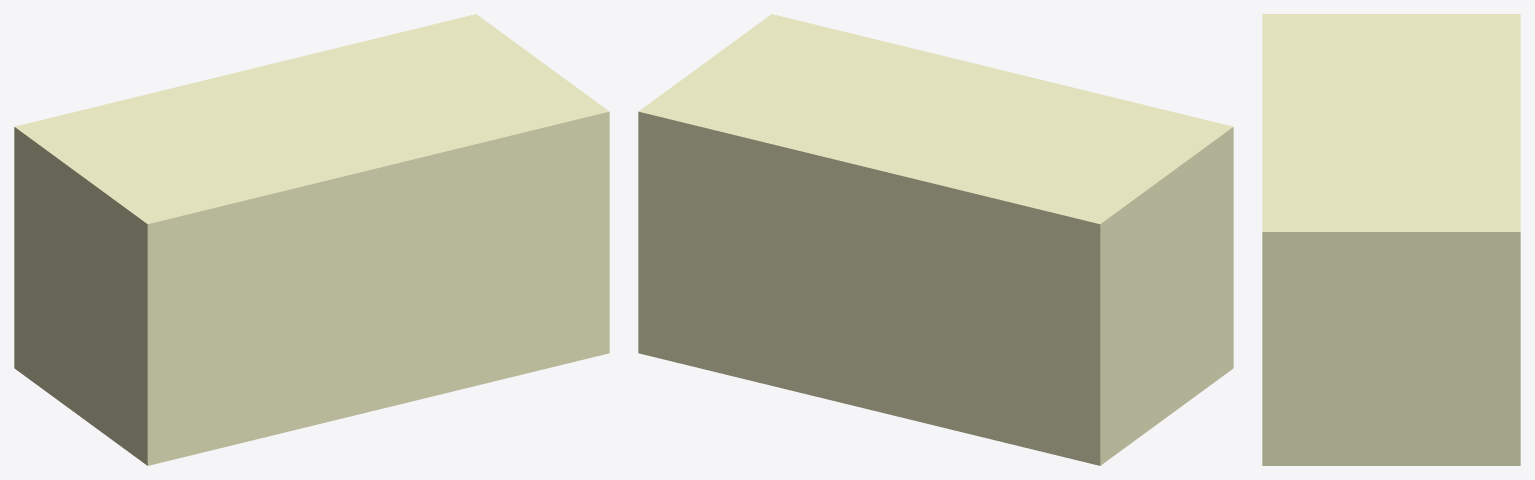
File: wall bottom 1.fbx
3 renders of one model, left to right at view 1: azimuth 30°, elevation 25°; view 2: azimuth 150°, elevation 25°; view 3: azimuth 270°, elevation 25°, orthographic. The views are drawn at different scales.
Parts seen in each view (by area): view 1: pCube1; view 2: pCube1; view 3: pCube1.
Boxes of the visible parts, x1=… form: pCube1: x1=14, y1=14, x2=609, y2=465; pCube1: x1=638, y1=14, x2=1233, y2=465; pCube1: x1=1262, y1=14, x2=1520, y2=465.
Size of the model in its own units: 200 by 100 by 100.
